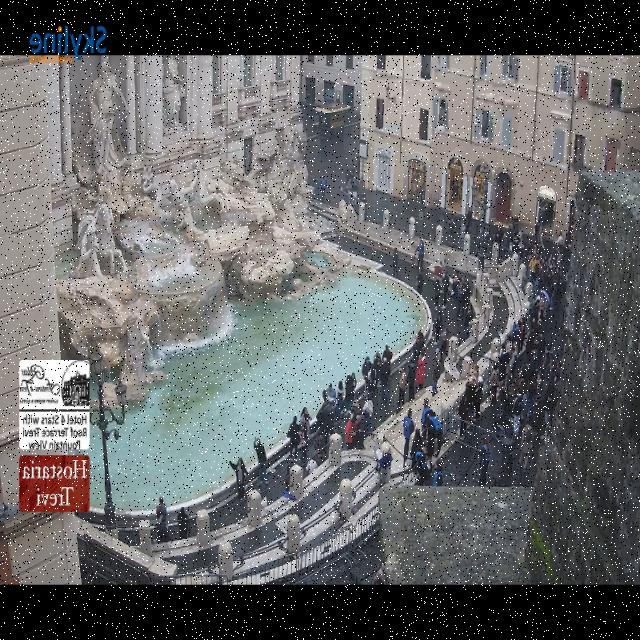person: (513, 257, 555, 354), (517, 256, 556, 351), (502, 303, 543, 378), (507, 329, 559, 385), (529, 257, 566, 319), (513, 291, 547, 354), (351, 366, 377, 448), (529, 320, 560, 381), (523, 240, 567, 281), (491, 364, 534, 405), (493, 363, 532, 404), (526, 318, 552, 375), (531, 259, 555, 319), (314, 397, 334, 463), (496, 370, 527, 407), (520, 238, 558, 268), (521, 297, 542, 351), (540, 243, 563, 290), (524, 319, 546, 367), (535, 237, 562, 276), (304, 428, 327, 472), (525, 297, 541, 358), (556, 231, 571, 294), (424, 411, 442, 461), (400, 350, 423, 388), (525, 310, 540, 368), (316, 390, 331, 448), (556, 226, 573, 277), (529, 252, 552, 289), (517, 305, 535, 352), (544, 246, 562, 290), (228, 458, 247, 499), (413, 442, 431, 485), (350, 396, 372, 431), (341, 373, 359, 414), (544, 265, 559, 310), (426, 415, 442, 457), (542, 244, 560, 281), (504, 369, 523, 404), (420, 398, 435, 441), (539, 264, 551, 317), (253, 438, 267, 483), (545, 268, 560, 310), (555, 233, 569, 277), (402, 408, 413, 463), (518, 231, 540, 257), (434, 329, 448, 369), (156, 505, 171, 542), (514, 366, 527, 408), (478, 436, 489, 485), (548, 233, 563, 268), (299, 408, 309, 459), (540, 340, 553, 379), (287, 417, 299, 459), (537, 256, 552, 289), (457, 280, 470, 318), (322, 384, 338, 414), (549, 243, 563, 277), (552, 271, 565, 307), (344, 372, 356, 411), (543, 383, 554, 424), (520, 363, 531, 404), (316, 390, 327, 431), (529, 223, 543, 255), (498, 344, 510, 381), (528, 248, 541, 282), (503, 382, 514, 422), (533, 250, 550, 275), (473, 377, 483, 419), (529, 296, 541, 330), (344, 373, 355, 410), (512, 393, 521, 438), (396, 366, 405, 411), (324, 400, 333, 445), (380, 358, 389, 402), (461, 306, 473, 339), (531, 256, 543, 289), (361, 399, 372, 434), (410, 428, 421, 463), (534, 332, 545, 367), (458, 395, 467, 437), (533, 365, 542, 407), (493, 224, 507, 251), (453, 270, 466, 299), (450, 270, 463, 299), (527, 372, 535, 419), (464, 377, 475, 411), (415, 353, 425, 390), (528, 223, 539, 256), (531, 232, 543, 262), (423, 449, 433, 485), (176, 508, 187, 539), (455, 270, 468, 296), (549, 360, 561, 388), (422, 430, 434, 458), (354, 416, 364, 449), (412, 332, 422, 365), (531, 255, 541, 288), (432, 349, 439, 396), (439, 329, 448, 365), (462, 279, 471, 315), (497, 382, 506, 417), (490, 364, 498, 403), (335, 380, 343, 419), (407, 363, 415, 402), (460, 279, 472, 305), (533, 265, 546, 289), (346, 168, 357, 196), (361, 357, 370, 391), (518, 240, 531, 263), (525, 329, 535, 358), (372, 351, 381, 383), (349, 397, 361, 421), (533, 256, 542, 288), (348, 403, 361, 425), (456, 283, 464, 318), (377, 451, 391, 471), (414, 238, 423, 269), (367, 366, 376, 397), (463, 305, 474, 330), (433, 259, 444, 284), (534, 221, 544, 248), (432, 460, 442, 487), (509, 322, 518, 352), (441, 271, 448, 309), (346, 418, 354, 451), (451, 270, 460, 299), (480, 228, 490, 254), (434, 308, 441, 345), (519, 240, 531, 261), (327, 383, 335, 414), (155, 504, 164, 531), (565, 223, 574, 250), (536, 296, 546, 319), (449, 179, 459, 201), (392, 247, 399, 278), (548, 280, 555, 311), (457, 219, 464, 250), (305, 457, 317, 475), (464, 207, 472, 234), (503, 368, 512, 392), (438, 258, 446, 285), (346, 168, 354, 195), (423, 398, 435, 416), (517, 317, 523, 352), (499, 235, 507, 261), (510, 231, 519, 254), (284, 463, 291, 491), (539, 295, 547, 319), (528, 255, 535, 282), (496, 224, 505, 244), (350, 403, 360, 421), (159, 497, 166, 522), (382, 345, 391, 363), (416, 268, 422, 295), (320, 175, 326, 202), (417, 331, 426, 349), (418, 331, 426, 351), (418, 332, 426, 352), (493, 225, 501, 245), (345, 168, 351, 194), (352, 176, 359, 198), (346, 159, 354, 178), (434, 279, 439, 309), (516, 230, 523, 250), (348, 159, 355, 179), (448, 218, 453, 245), (554, 232, 563, 245), (412, 336, 418, 355), (260, 495, 267, 510), (0, 500, 7, 514), (344, 166, 348, 190), (388, 359, 391, 385), (475, 397, 480, 408), (371, 248, 375, 261), (384, 346, 387, 352)
